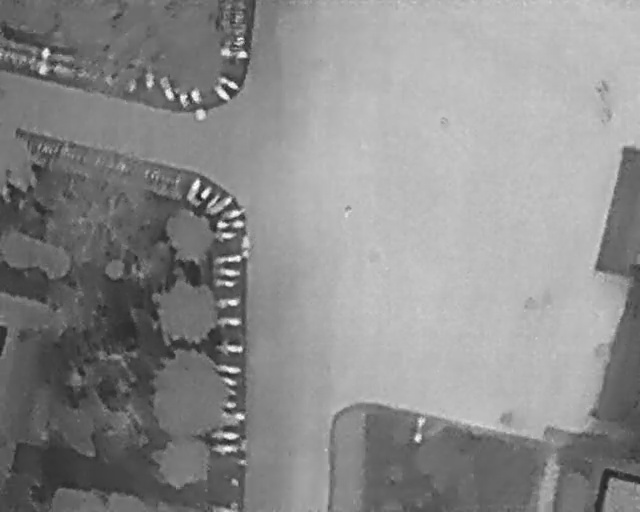Bicycle: (204, 194, 232, 217), (156, 75, 178, 104), (185, 175, 203, 204), (413, 413, 427, 445), (213, 253, 246, 266), (212, 82, 232, 103), (204, 192, 225, 212), (215, 76, 242, 91), (220, 206, 247, 220), (214, 341, 243, 354), (187, 85, 204, 106), (213, 266, 243, 277), (210, 431, 241, 441), (214, 296, 242, 307), (211, 444, 241, 454), (214, 363, 241, 374), (217, 373, 238, 387), (197, 185, 212, 204), (216, 317, 241, 326), (213, 279, 238, 288), (217, 220, 245, 228), (215, 230, 237, 240)
Person: (344, 204, 353, 220)
